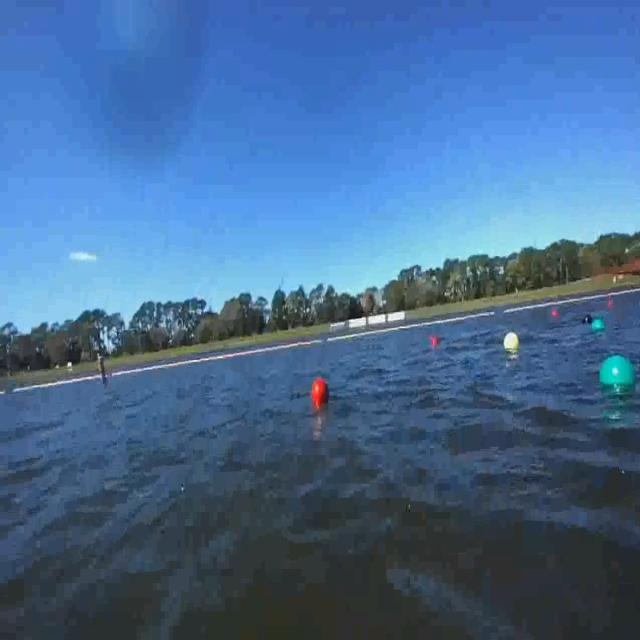green-buoy: (598, 356, 636, 402), (592, 319, 605, 334)
red-buoy: (315, 377, 332, 405), (430, 337, 439, 348), (552, 310, 560, 318)
yellow-buoy: (503, 332, 519, 352)
